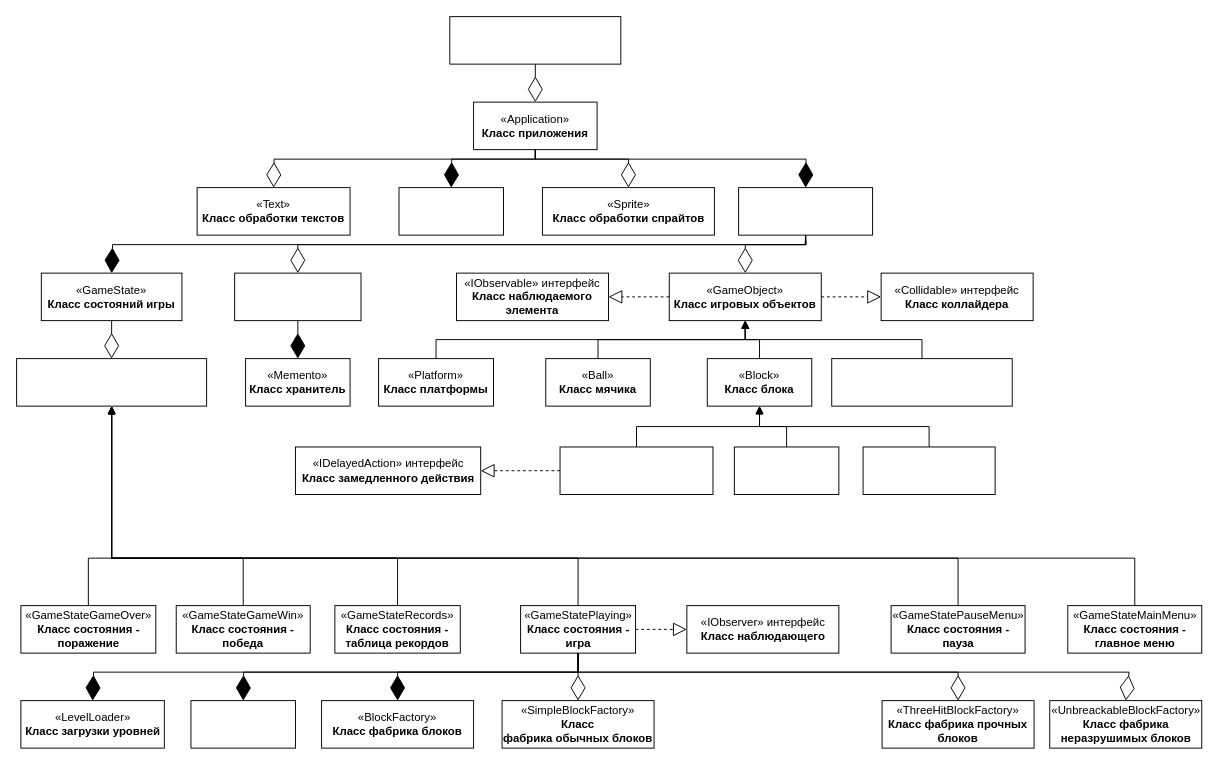
Image size: 1219x765. Some labels were removed from this diagram. Here are the shapes that lost their labels. From the top down, the centre of each, then its label:
the point at 535,40: «GameMain» Точка запуска приложения
the point at 451,211: «Menu» Класс меню игры
the point at 805,211: «Game» Класс игры Арканоид
the point at 297,296: «Caretaker» Класс посыльный
the point at 111,382: «GameStateData» Класс данных состояния игры
the point at 921,382: «BonusObject» Класс бонуса на игровом поле
the point at 636,470: «SmoothDestroyableBlock» Класс обычного блока
the point at 786,470: «ThreeHitBlock» Класс прочных блоков
the point at 928,470: «UnbreackableBlock» Класс неразрушимых блоков
the point at 242,724: «Bonus» Класс бонуса
